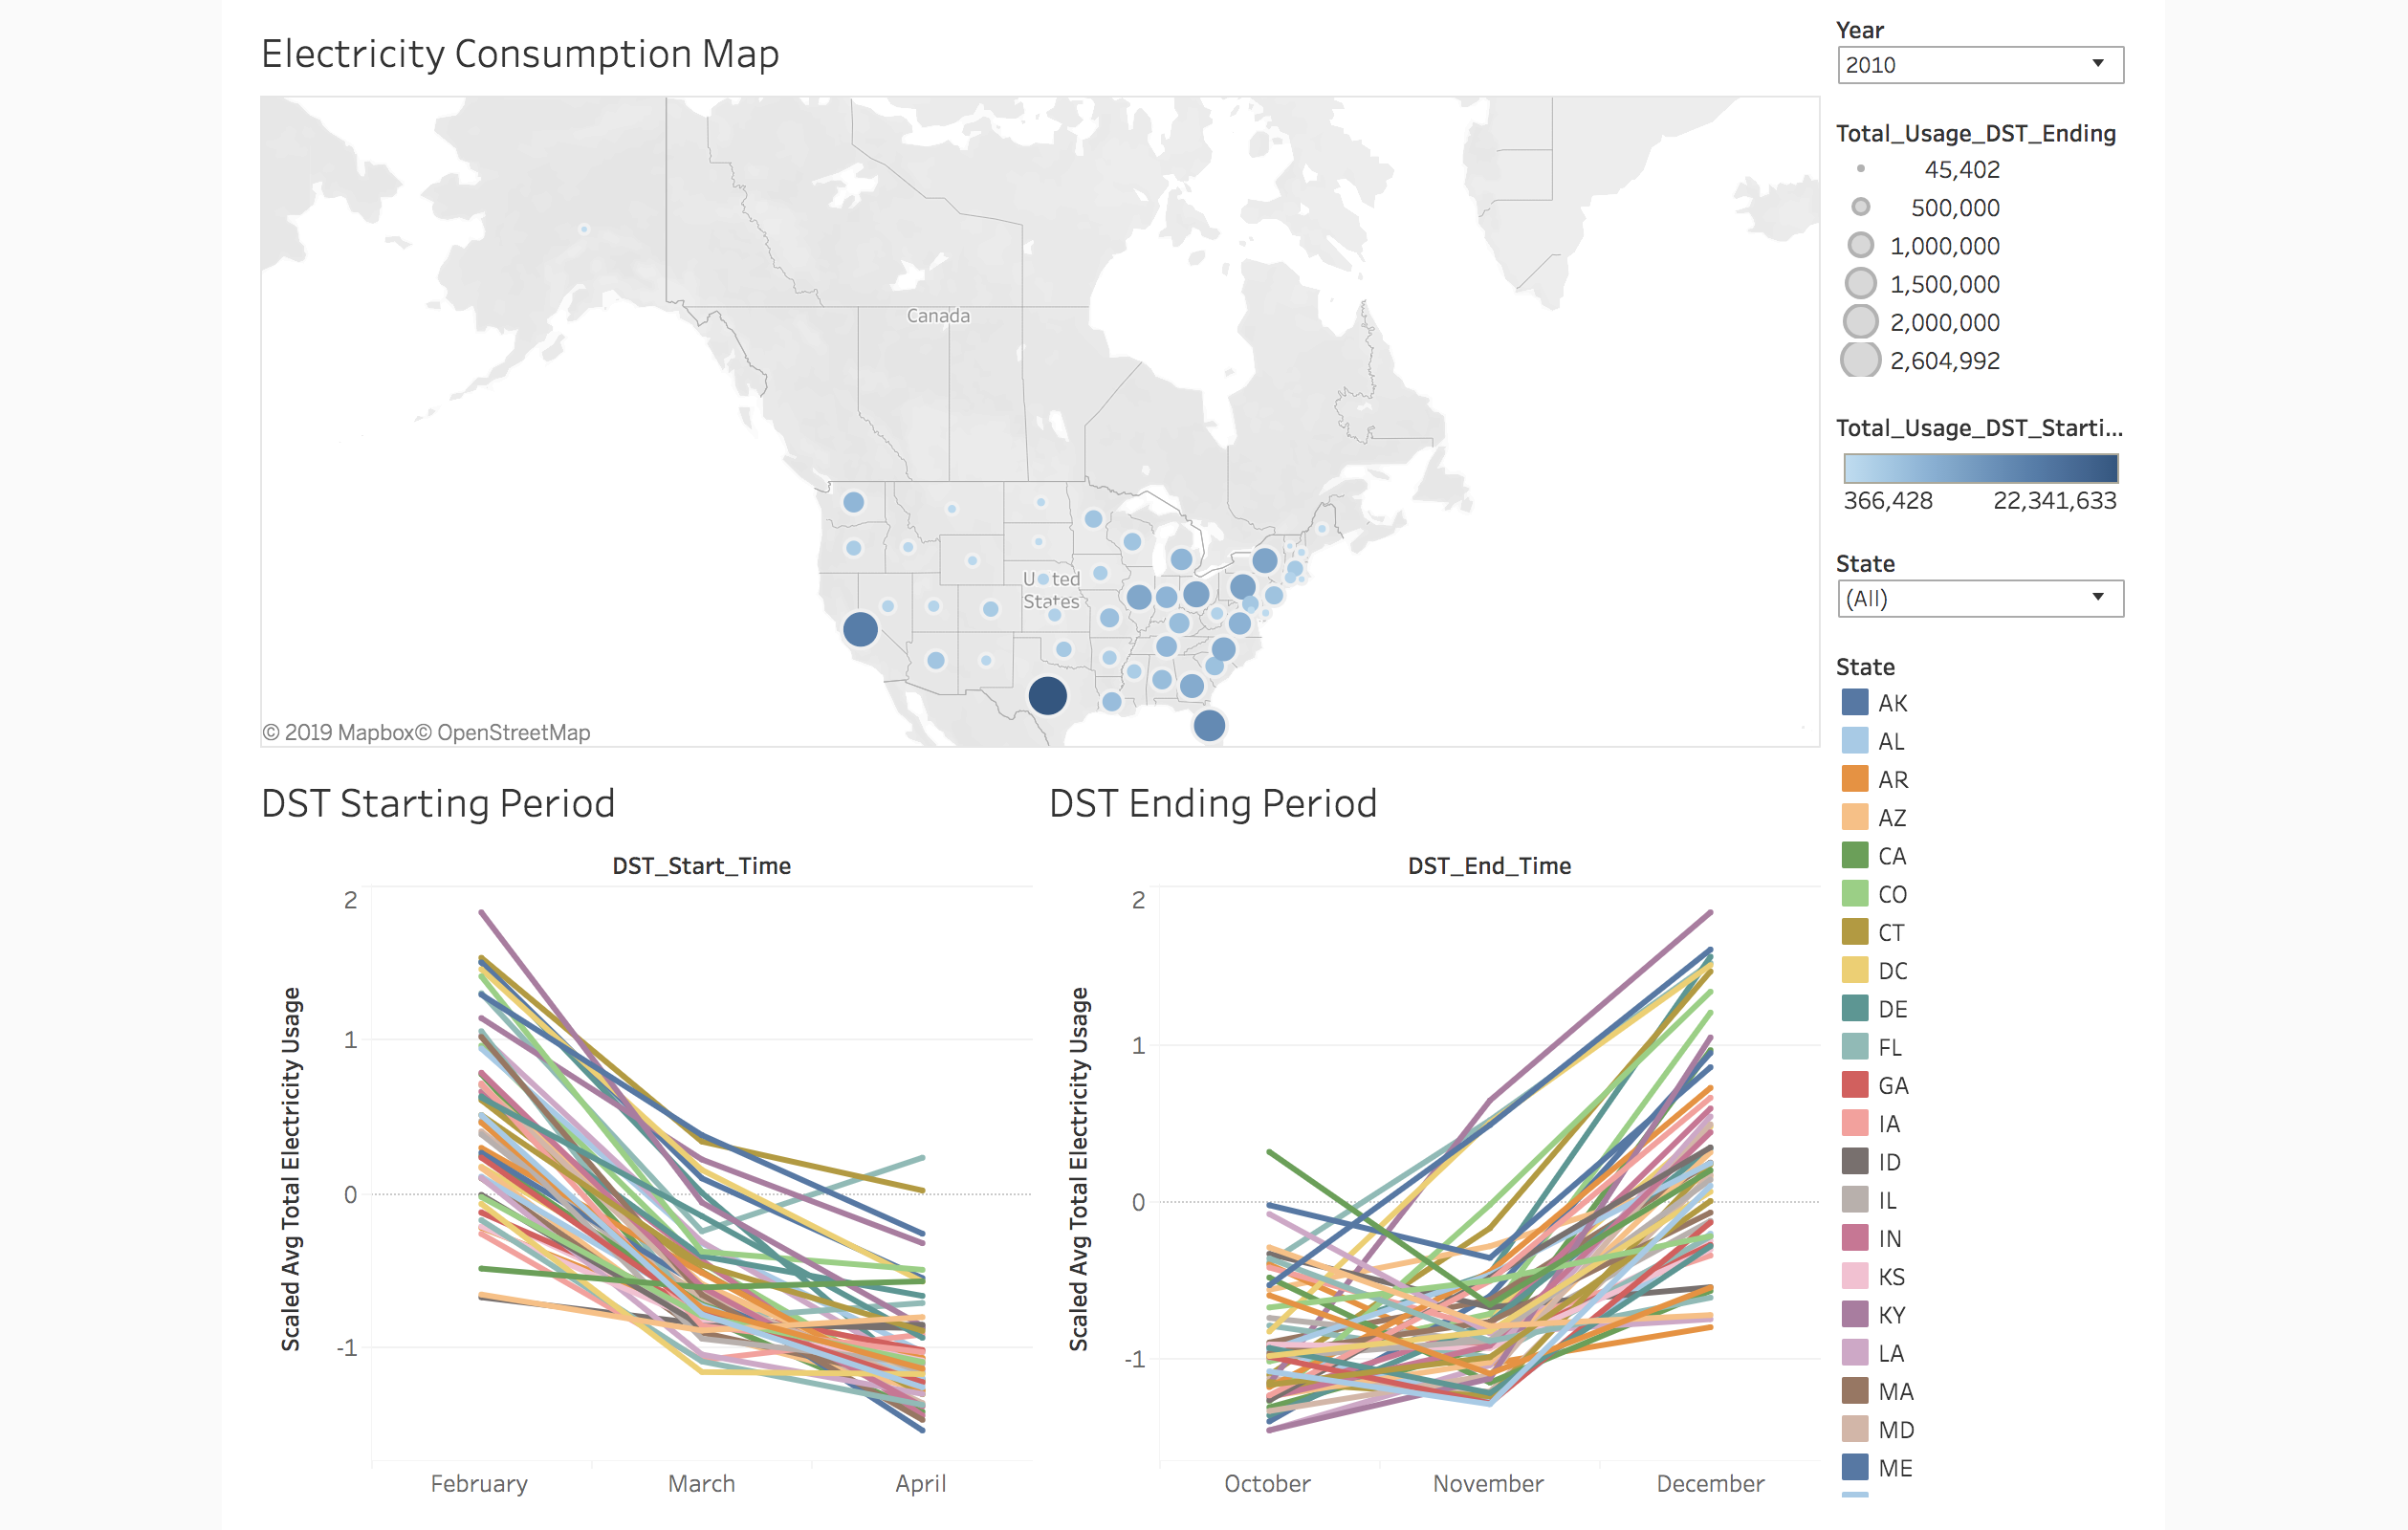

This screenshot's page, from the dashboard's own definition file:
{"tool":"tableau","page":{"name":"Electricity Usage","canvas":[1000,800],"ordinal":1},"visuals":[{"type":"worksheet","title":"Elec_Map","mark":"Automatic","box":[8,8,824,392]},{"type":"filter","title":"Elec_DST_Start","param":"[federated.0jbo1pb11bszpy1821xob1fu1bn9].[none:Year:ok]","box":[832,8,160,52]},{"type":"legend","title":"Elec_Map","param":"[federated.1sijr8700myd7j1byhbi81hl29ij].[sum:Total_sales (elec_dst_end_total.cs","box":[832,60,160,154]},{"type":"legend","title":"Elec_Map","param":"[federated.0jbo1pb11bszpy1821xob1fu1bn9].[sum:Total_sales (elec_dst_start_total.","box":[832,214,160,71]},{"type":"filter","title":"Elec_DST_End","param":"[federated.1sijr8700myd7j1byhbi81hl29ij].[none:State:nk]","box":[832,285,160,52]},{"type":"legend","title":"Elec_DST_Start","param":"[federated.0jbo1pb11bszpy1821xob1fu1bn9].[none:State:nk]","box":[832,337,160,66]},{"type":"worksheet","title":"Elec_DST_Start","mark":"Automatic","rows":["Total_sales"],"cols":["Calculation_1777725636346691584"],"box":[8,400,412,392]},{"type":"worksheet","title":"Elec_DST_End","mark":"Automatic","rows":["Total_sales"],"cols":["Calculation_1777725636348981250"],"box":[420,400,412,392]}]}

Visuals, with their boxes on the page's 1000x800 design canvas (x1, y1, x2, y2). These are canvas units, not pixel positions in the 2408x1530 screenshot, which may show the page scaled, cropped or inside an application window:
"Elec_Map" worksheet: x1=8 y1=8 x2=832 y2=400
"Elec_DST_Start" filter: x1=832 y1=8 x2=992 y2=60
"Elec_Map" legend: x1=832 y1=60 x2=992 y2=214
"Elec_Map" legend: x1=832 y1=214 x2=992 y2=285
"Elec_DST_End" filter: x1=832 y1=285 x2=992 y2=337
"Elec_DST_Start" legend: x1=832 y1=337 x2=992 y2=403
"Elec_DST_Start" worksheet: x1=8 y1=400 x2=420 y2=792
"Elec_DST_End" worksheet: x1=420 y1=400 x2=832 y2=792
